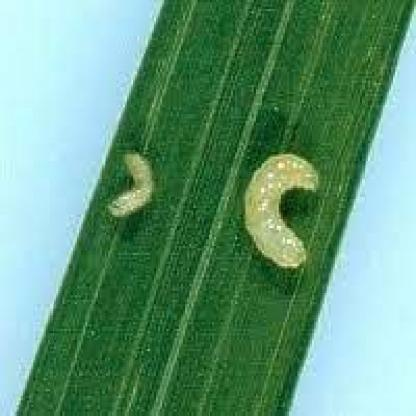whorl-maggot: (230, 146, 321, 276), (100, 144, 162, 228)
